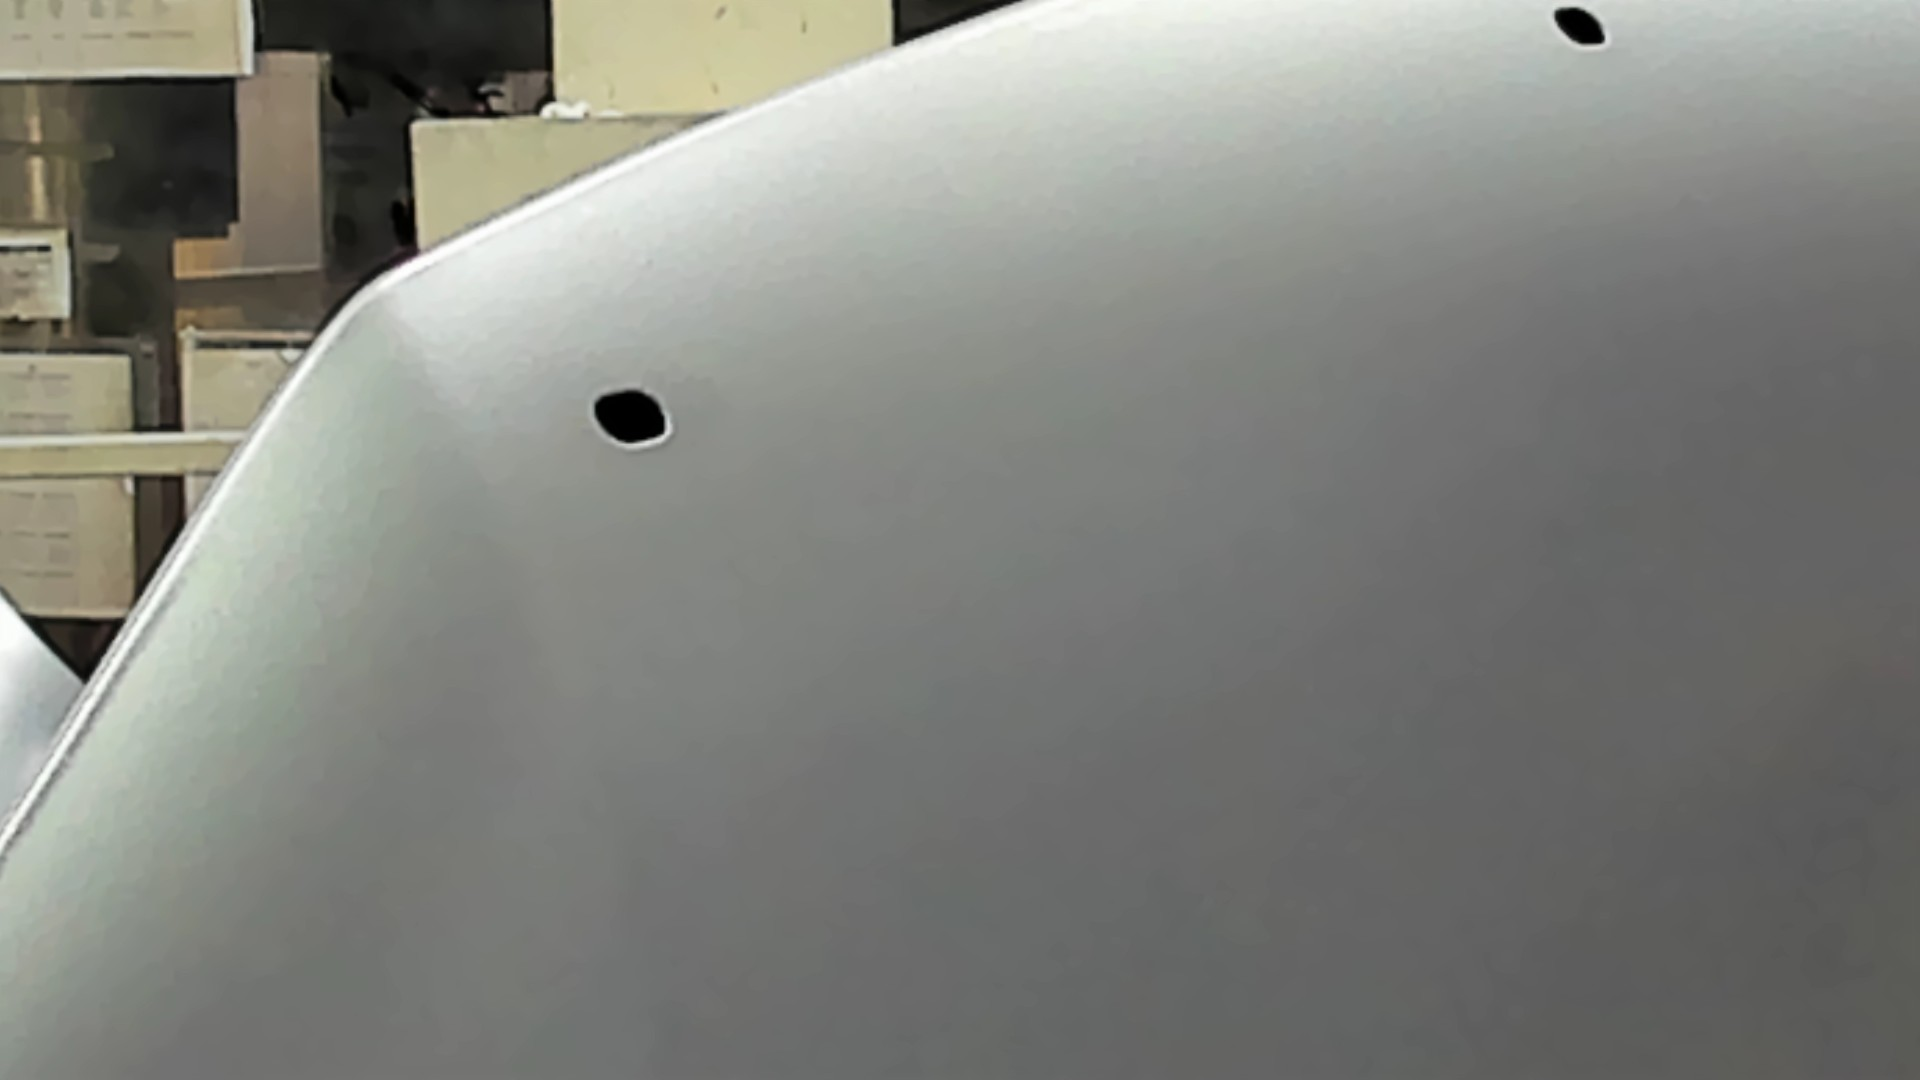amorfo: (582, 378, 679, 458), (1549, 1, 1615, 61)
